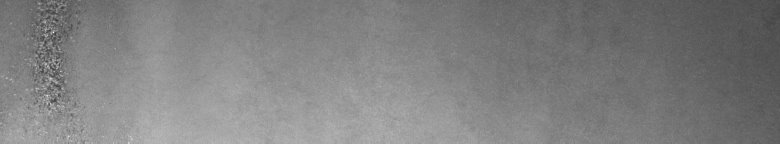hc: (5, 4, 87, 136)
